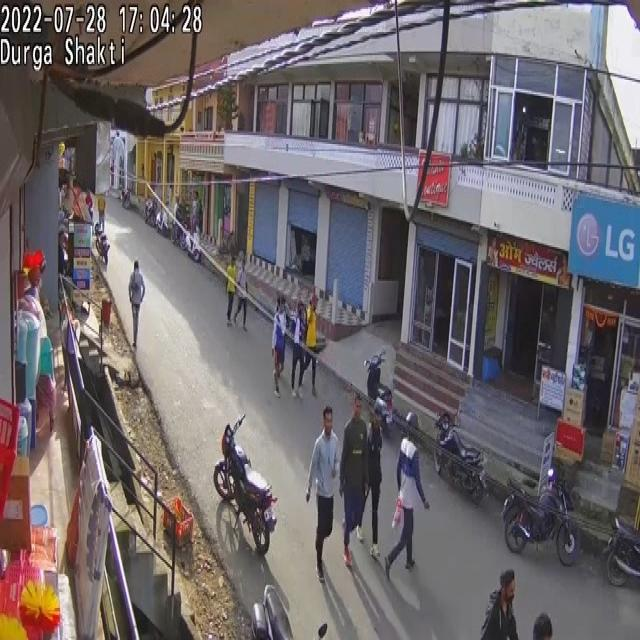non-fight: (383, 416, 429, 573), (306, 403, 341, 578), (338, 396, 369, 562), (362, 408, 384, 550), (478, 568, 520, 640), (290, 300, 313, 397), (270, 294, 288, 392), (128, 261, 146, 350), (232, 255, 248, 328), (225, 256, 238, 326), (174, 198, 184, 243), (191, 192, 201, 235)
